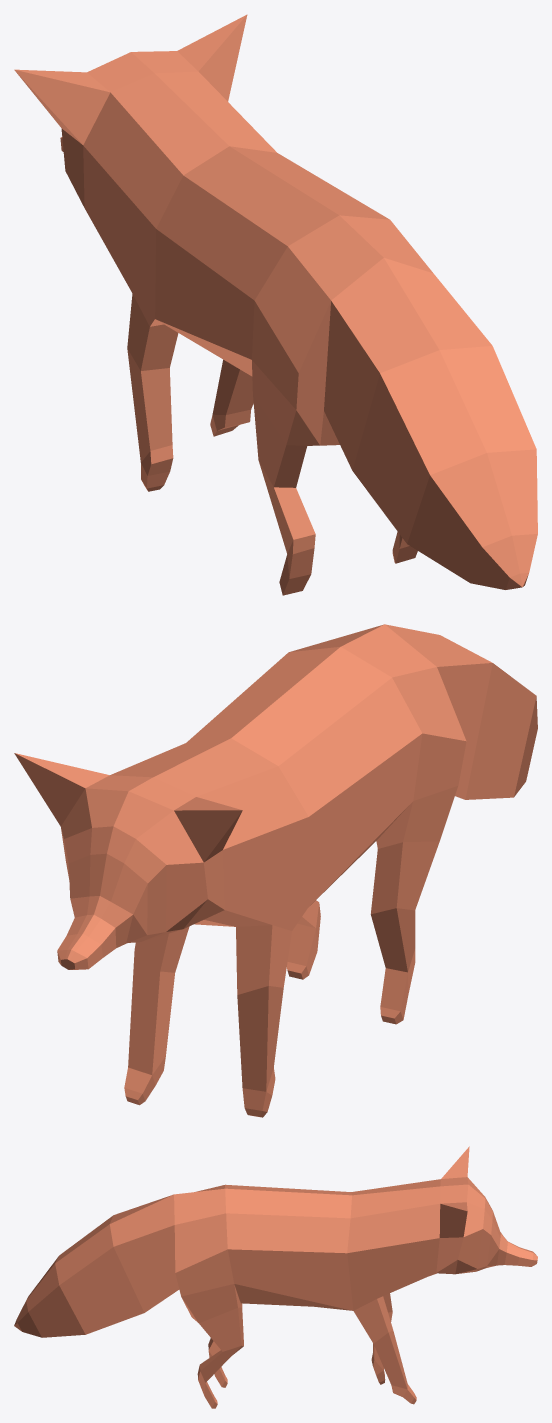
Rendered from quaternius_Red Fox.glb.
The picture shows the model from 3 angles, top to bottom: view 1: azimuth 30°, elevation 25°; view 2: azimuth 150°, elevation 25°; view 3: azimuth 270°, elevation 25°; orthographic projection. The views are drawn at different scales.
Bounding box in the file's own units: 0.0777 × 0.1232 × 0.2637.
